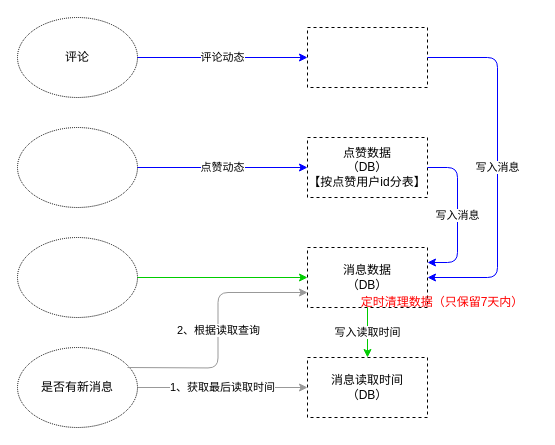
Some shapes in this 555 by 445 pixel diagram are drawn without their labels. Here are the shapes that lost their labels. From the top down, the box of each, then its label:
(306, 26, 428, 88): 评论数据 （DB） 【按动态id分表】
(16, 126, 138, 208): 点赞
(16, 236, 138, 318): 获取消息列表
